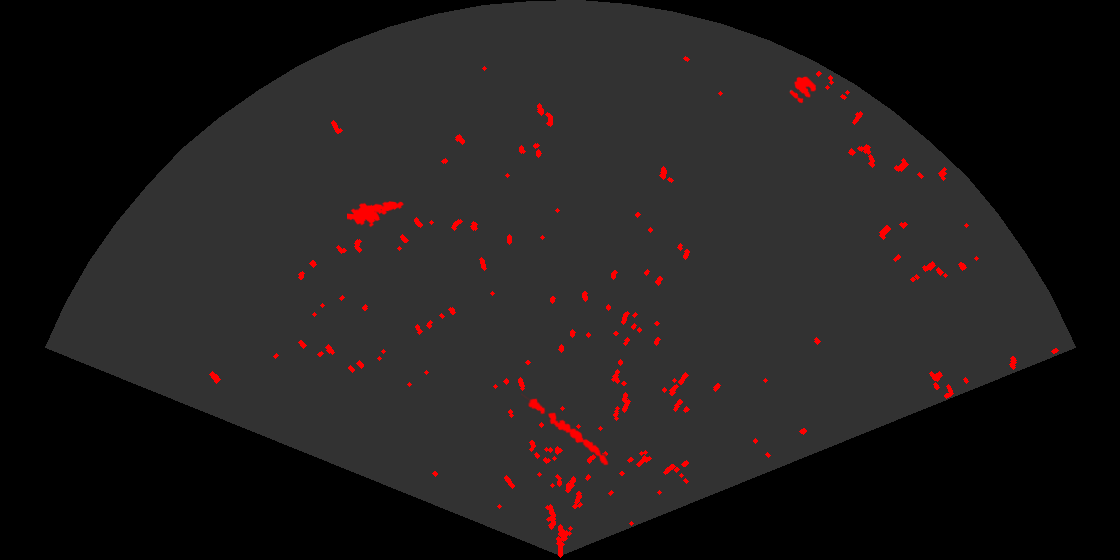ball: (788, 75, 818, 105)
chain: (521, 392, 610, 467)
frogman: (347, 200, 405, 229)
